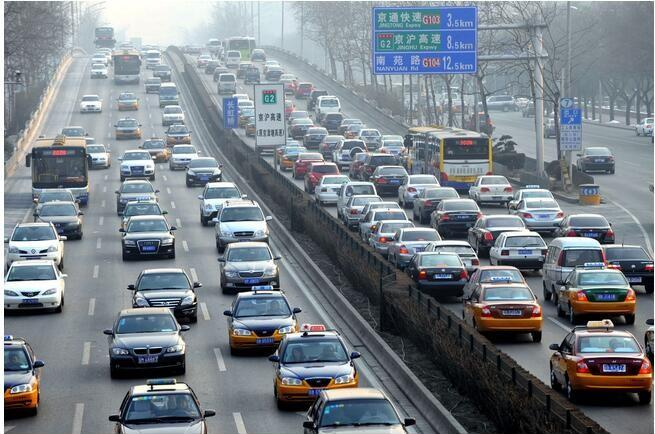bus: (403, 125, 494, 193), (23, 136, 92, 209), (110, 50, 143, 85), (225, 36, 251, 63), (205, 37, 222, 52)
car: (548, 318, 655, 406), (266, 323, 361, 411), (102, 307, 190, 378), (108, 378, 217, 434), (221, 285, 304, 356), (300, 386, 416, 434), (460, 276, 542, 343), (557, 262, 637, 324), (542, 236, 606, 304), (126, 268, 201, 323), (3, 332, 45, 418), (216, 241, 282, 294), (594, 242, 655, 298), (4, 260, 67, 313), (211, 198, 272, 252), (403, 251, 472, 298), (463, 264, 526, 311), (117, 213, 177, 262), (4, 221, 66, 268), (489, 231, 552, 272), (385, 227, 443, 271), (469, 215, 528, 258), (421, 239, 481, 279), (553, 213, 616, 250), (196, 180, 247, 225), (509, 196, 566, 232), (429, 198, 484, 234), (31, 202, 83, 239), (367, 219, 417, 257), (360, 208, 412, 244), (113, 175, 160, 213), (120, 196, 168, 233), (411, 187, 460, 223), (336, 181, 378, 222), (507, 183, 557, 217), (397, 173, 443, 208), (32, 187, 79, 221), (468, 174, 514, 206), (343, 194, 384, 229), (359, 199, 402, 232), (116, 148, 157, 181), (313, 174, 355, 206), (370, 164, 410, 196), (358, 151, 398, 183), (182, 156, 222, 188), (574, 145, 616, 175), (303, 161, 340, 194), (330, 138, 368, 170), (165, 143, 202, 171), (292, 151, 325, 181), (471, 94, 517, 113), (137, 136, 167, 165), (348, 151, 378, 179), (280, 145, 311, 172), (318, 134, 348, 161), (313, 94, 341, 122), (61, 125, 89, 151), (163, 121, 192, 146), (112, 116, 142, 140), (83, 142, 110, 168), (377, 138, 406, 161), (286, 117, 315, 140), (156, 81, 181, 107), (301, 126, 329, 148), (274, 137, 299, 161), (542, 118, 569, 140), (160, 103, 185, 126), (319, 112, 345, 134), (244, 115, 267, 138), (305, 88, 329, 110), (355, 127, 380, 148), (335, 118, 361, 138), (216, 71, 237, 95), (115, 91, 139, 112), (79, 94, 104, 113), (286, 110, 312, 127), (343, 123, 367, 141), (234, 98, 254, 118), (229, 91, 249, 111), (634, 117, 654, 137), (151, 64, 173, 82), (236, 109, 256, 128), (440, 92, 459, 112), (522, 101, 542, 120), (294, 81, 315, 99), (144, 49, 162, 70), (275, 77, 296, 94), (144, 75, 162, 94), (449, 99, 470, 115), (278, 98, 295, 117), (225, 48, 241, 68), (89, 63, 109, 79), (260, 59, 281, 74), (212, 66, 230, 83), (236, 62, 255, 78), (424, 101, 444, 116), (264, 66, 285, 80), (243, 66, 260, 83), (204, 59, 222, 75), (91, 52, 108, 68), (195, 54, 214, 68), (250, 48, 265, 61)
